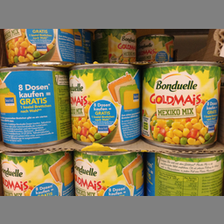corn: (140, 61, 221, 150), (69, 64, 141, 145), (1, 66, 69, 147), (145, 152, 223, 196), (74, 149, 146, 196), (2, 151, 75, 194), (3, 29, 79, 63), (137, 32, 172, 62)
